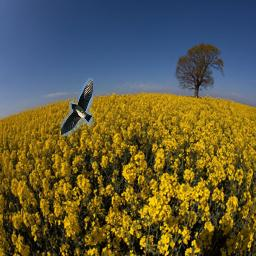Swallow: (61, 78, 93, 136)
